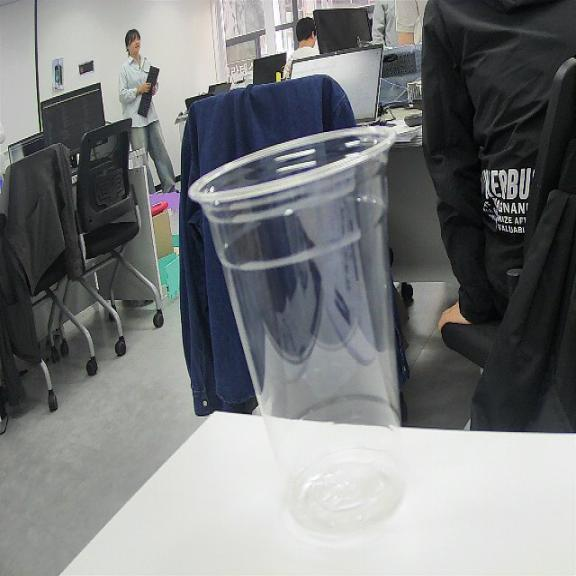Plastik: (189, 128, 403, 530)
